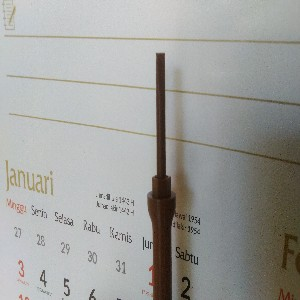obeng: (146, 50, 177, 300)
